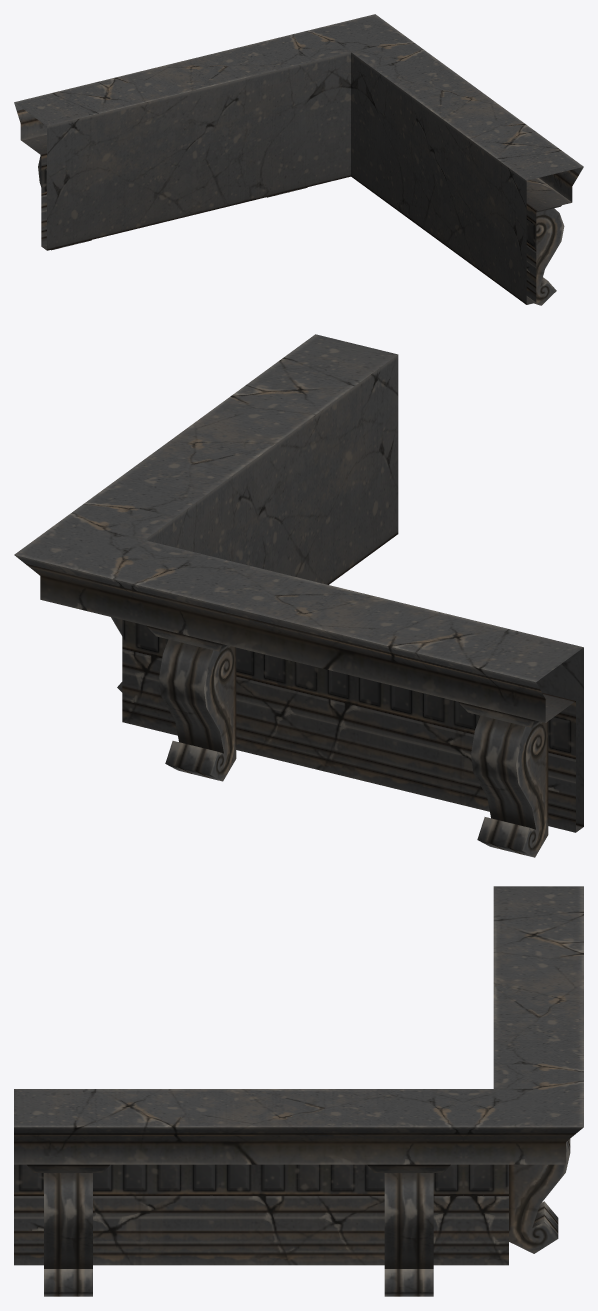
File: ARC0110004.fbx
The picture shows the model from 3 angles, top to bottom: view 1: azimuth 30°, elevation 25°; view 2: azimuth 150°, elevation 25°; view 3: azimuth 270°, elevation 25°; orthographic projection. The views are drawn at different scales.
Parts seen in each view (by area): view 1: smARC0110004; view 2: smARC0110004; view 3: smARC0110004.
Boxes of the visible parts, x1,y1,x2,y2 form: smARC0110004: [14, 14, 583, 305]; smARC0110004: [14, 334, 583, 857]; smARC0110004: [14, 886, 583, 1296].
Bounding box in the file's own units: 410 × 151 × 410.
Materials: 1 (1 with a texture image).
